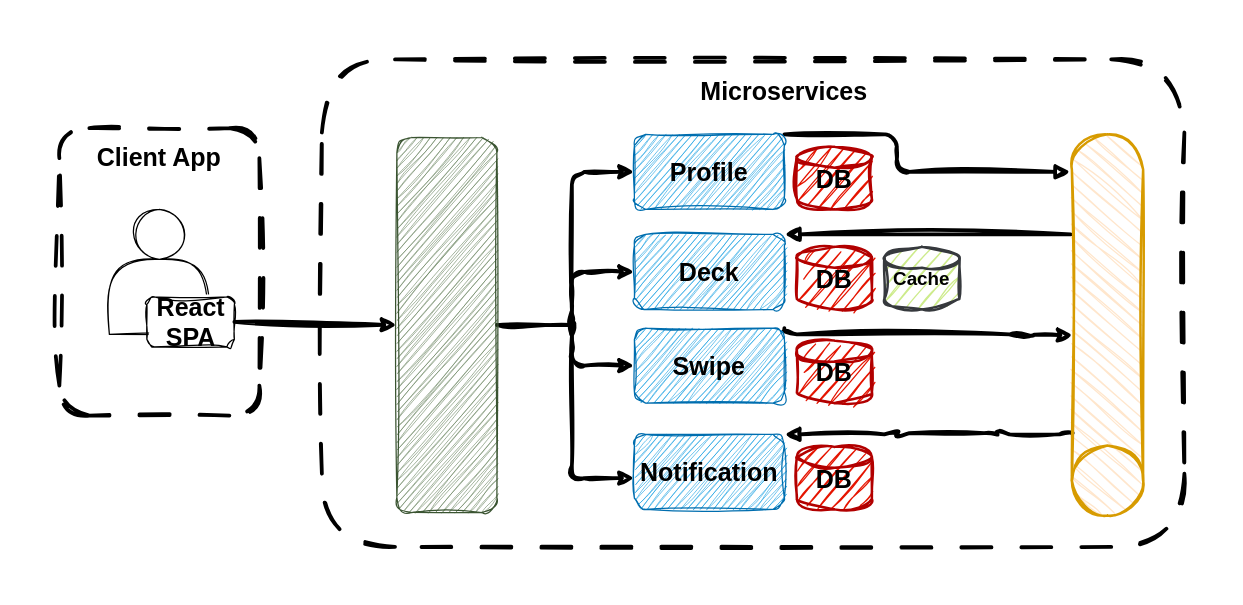
The diagram is 1243 pixels wide and 605 high, and some of its shapes have lost their labels. Here are the shapes that lost their labels. From the top down, the centre of each, then its label:
At (x=446, y=324): "API Gateway".
At (x=1107, y=324): "Message Broker".
